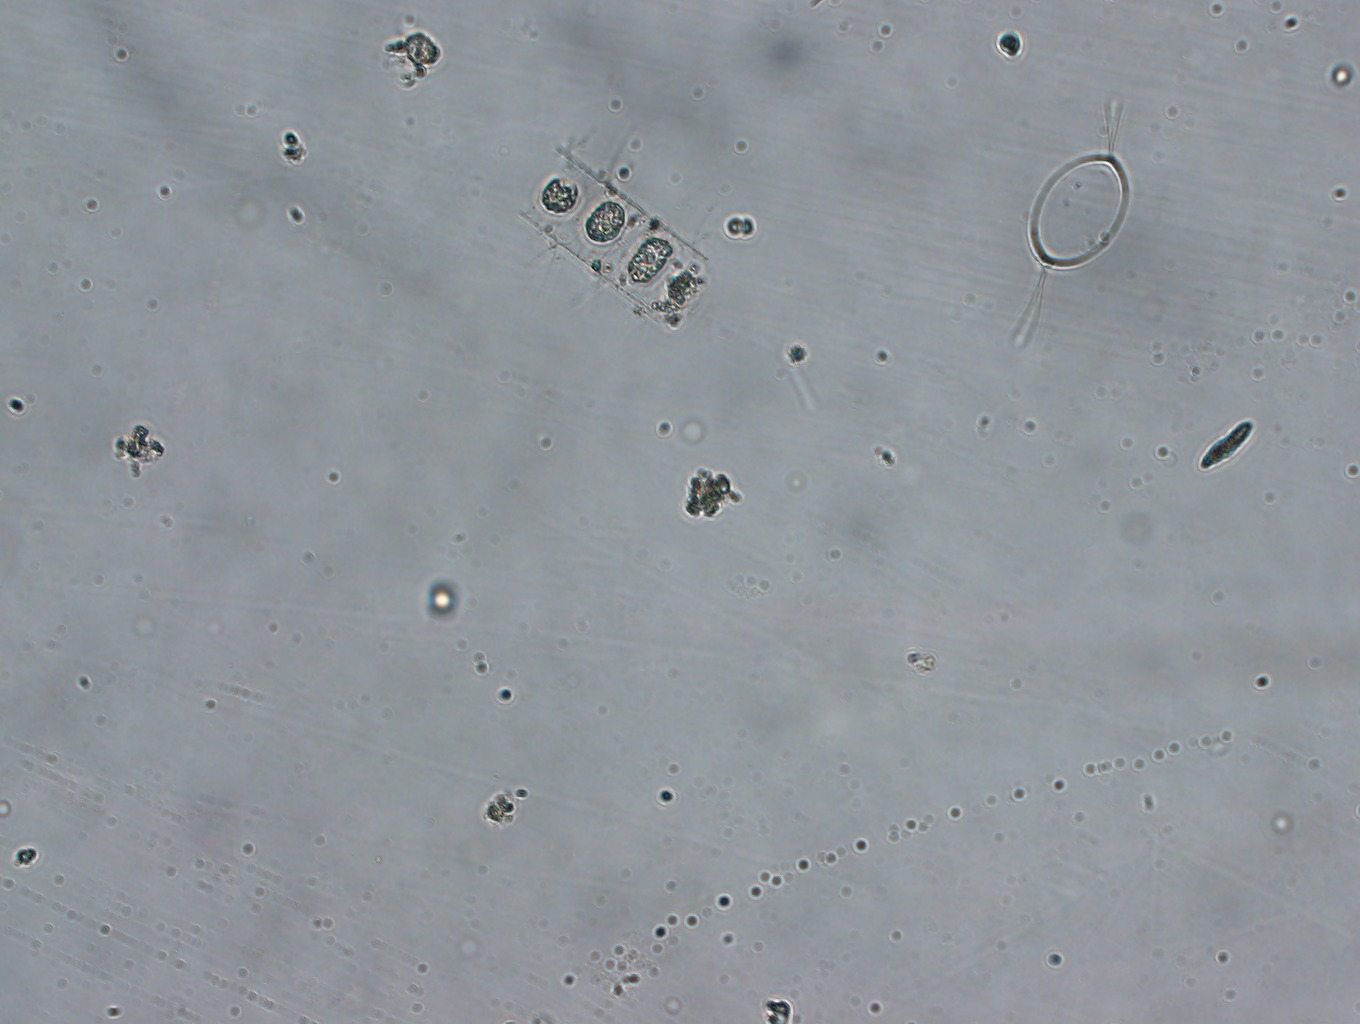chaetoceros: (506, 118, 724, 357), (999, 93, 1141, 367)
